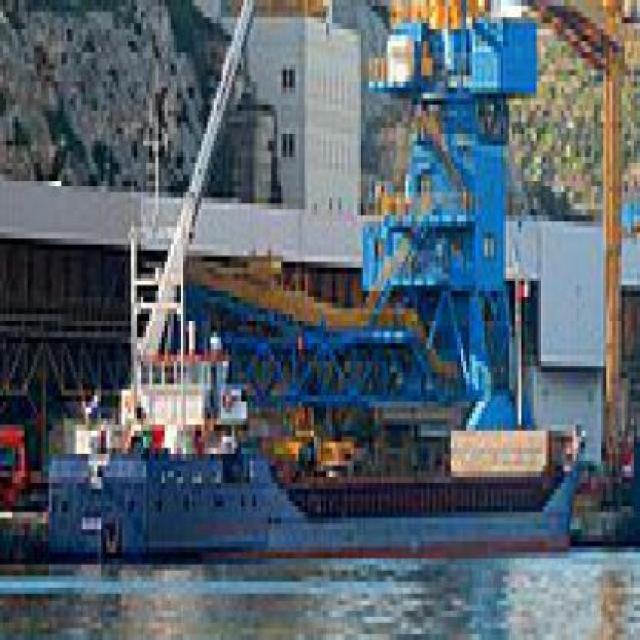container: (44, 204, 593, 566)
